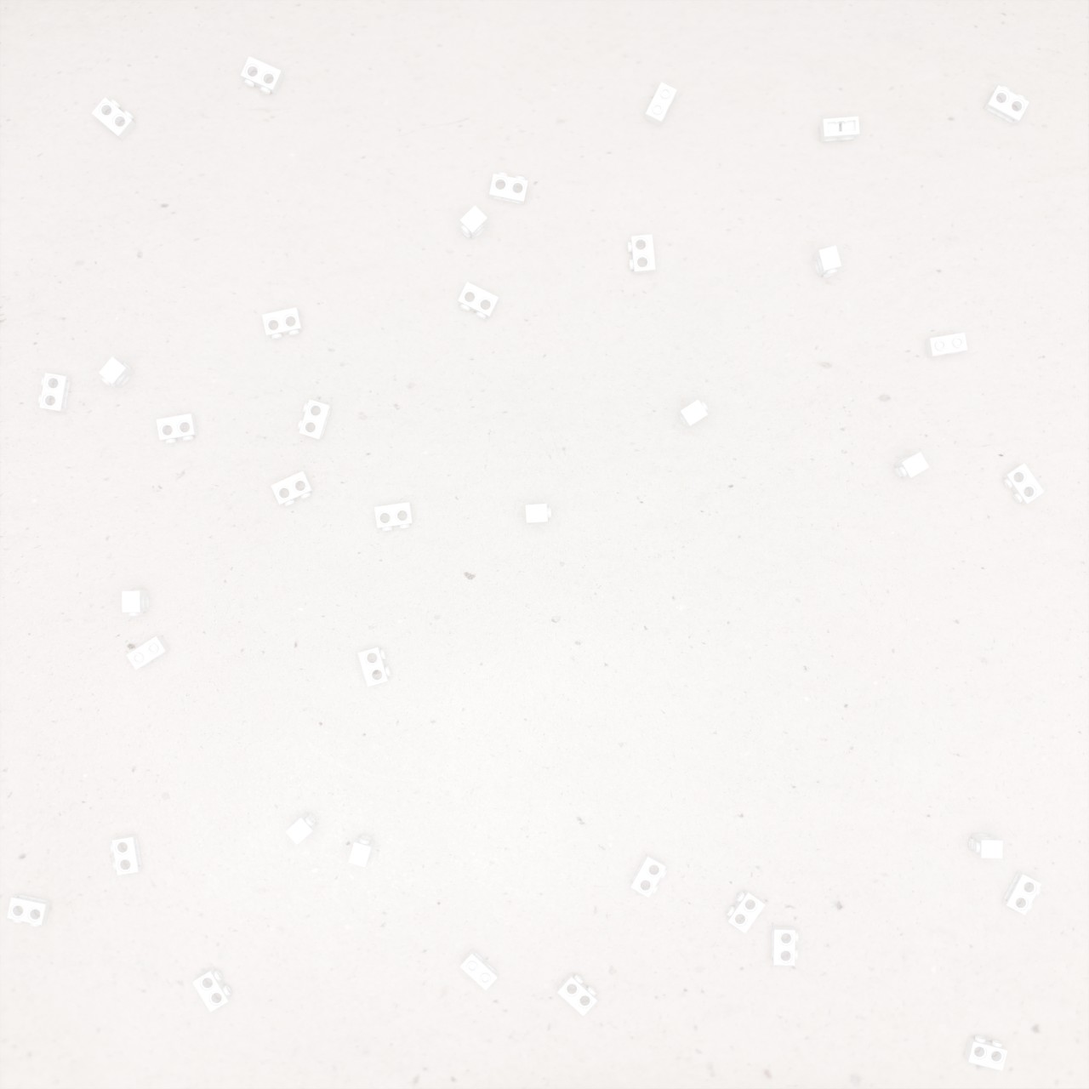lego: (91, 97, 137, 141), (1001, 870, 1042, 915), (192, 967, 232, 1013), (983, 85, 1029, 125), (726, 889, 766, 934), (1002, 463, 1045, 504), (557, 972, 597, 1016), (240, 56, 284, 95), (630, 853, 667, 898), (460, 948, 498, 991), (964, 1035, 1008, 1071), (126, 635, 171, 670), (271, 471, 314, 507), (458, 282, 499, 319), (7, 893, 51, 927), (644, 82, 677, 127), (298, 399, 332, 440), (38, 373, 72, 413), (358, 646, 391, 687), (110, 834, 143, 875), (262, 307, 304, 339), (156, 413, 198, 444), (489, 172, 528, 205), (627, 234, 656, 275), (98, 356, 135, 388), (374, 502, 414, 531), (285, 811, 318, 845), (925, 332, 968, 358), (771, 925, 798, 965), (819, 116, 860, 142), (460, 205, 489, 240), (813, 245, 842, 278), (894, 452, 929, 479), (677, 399, 708, 429), (348, 834, 375, 868), (969, 833, 1003, 858), (122, 590, 149, 616), (525, 504, 551, 523)
